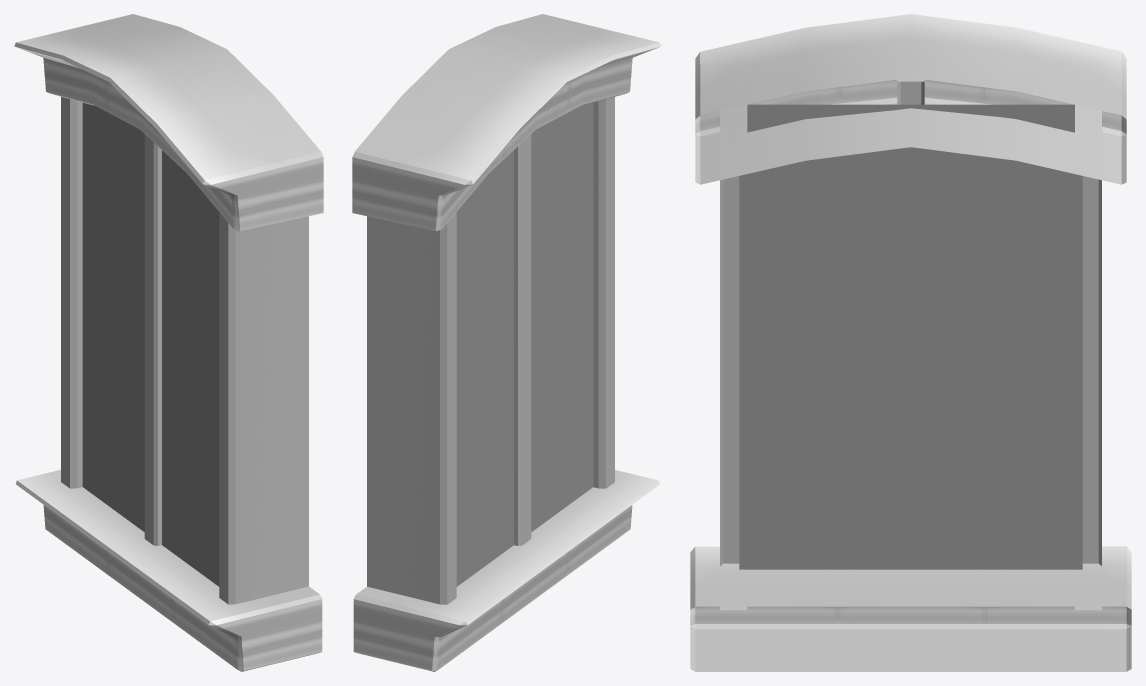
Rendered from Window_a.fbx.
The picture shows the model from 3 angles, left to right: view 1: azimuth 30°, elevation 25°; view 2: azimuth 150°, elevation 25°; view 3: azimuth 270°, elevation 25°; orthographic projection. The views are drawn at different scales.
Parts seen in each view (by area): view 1: pCube11; view 2: pCube11; view 3: pCube11.
Part boxes in pixels (left/top/right/bottom): pCube11: left=14, top=14, right=323, bottom=671; pCube11: left=352, top=14, right=661, bottom=671; pCube11: left=690, top=14, right=1131, bottom=671.
Size of the model in its own units: 0.9832 by 4.22 by 2.83.
